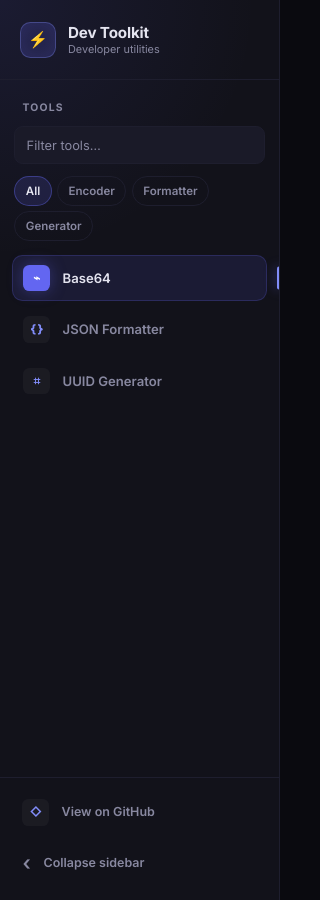
Test: Sidebar search input › narrows the tool list as the user types
Type "json" into the search field labelled "Filter tools" at [140, 145], box [14, 126, 265, 164]
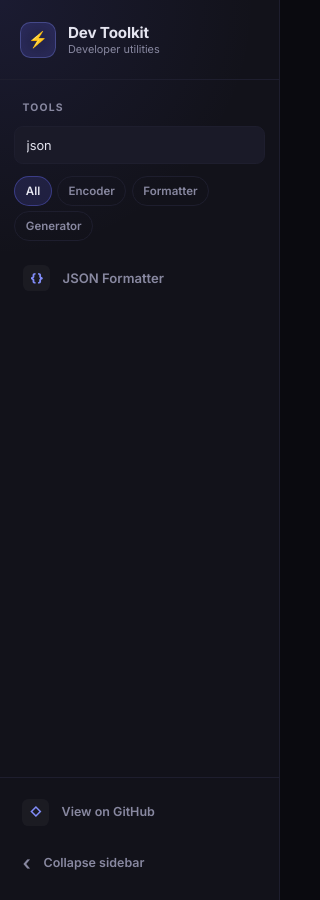
Expected: the button "{ } JSON Formatter" is shown, [12, 255, 267, 301]
Result: the button "Base64" is gone
Result: the button "UUID Generator" is gone
